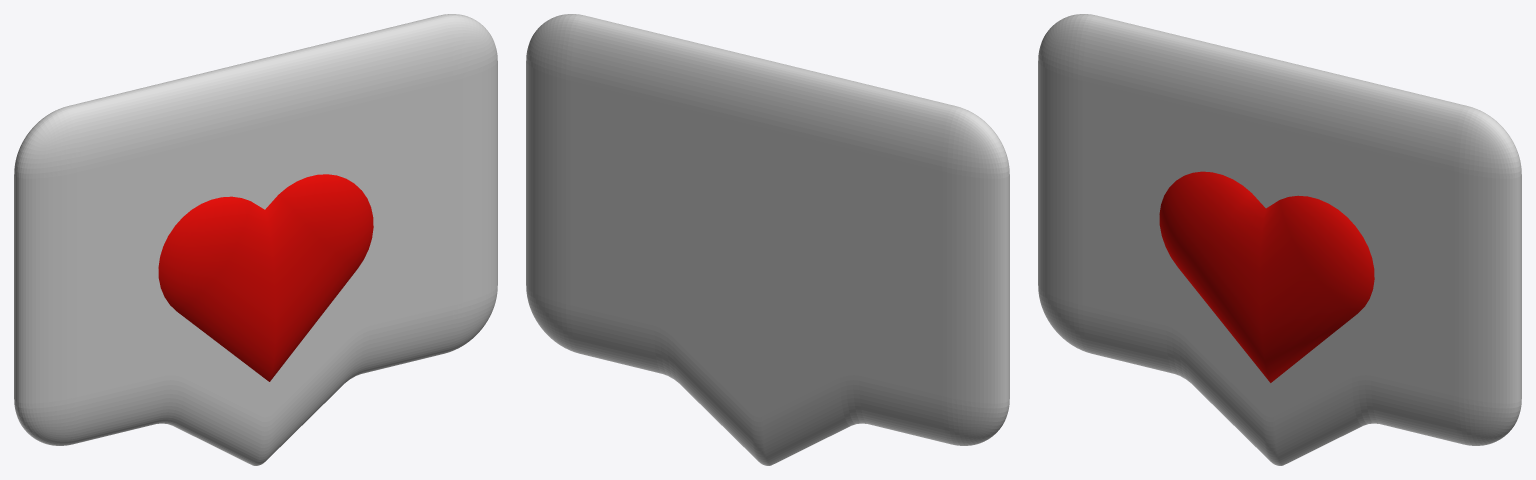
The picture shows the model from 3 angles, left to right: view 1: azimuth 30°, elevation 25°; view 2: azimuth 150°, elevation 25°; view 3: azimuth 330°, elevation 25°; orthographic projection.
Parts seen in each view (by area): view 1: Cube003_59, Cube018_58; view 2: Cube003_59; view 3: Cube003_59, Cube018_58.
Boxes of the visible parts, bbox=[...] form: Cube003_59: bbox=[14, 14, 497, 465]; Cube018_58: bbox=[158, 174, 373, 381]; Cube003_59: bbox=[526, 14, 1009, 465]; Cube003_59: bbox=[1038, 14, 1521, 465]; Cube018_58: bbox=[1159, 171, 1374, 382].
Size of the model in its own units: 3.84 by 3.08 by 0.4331.
